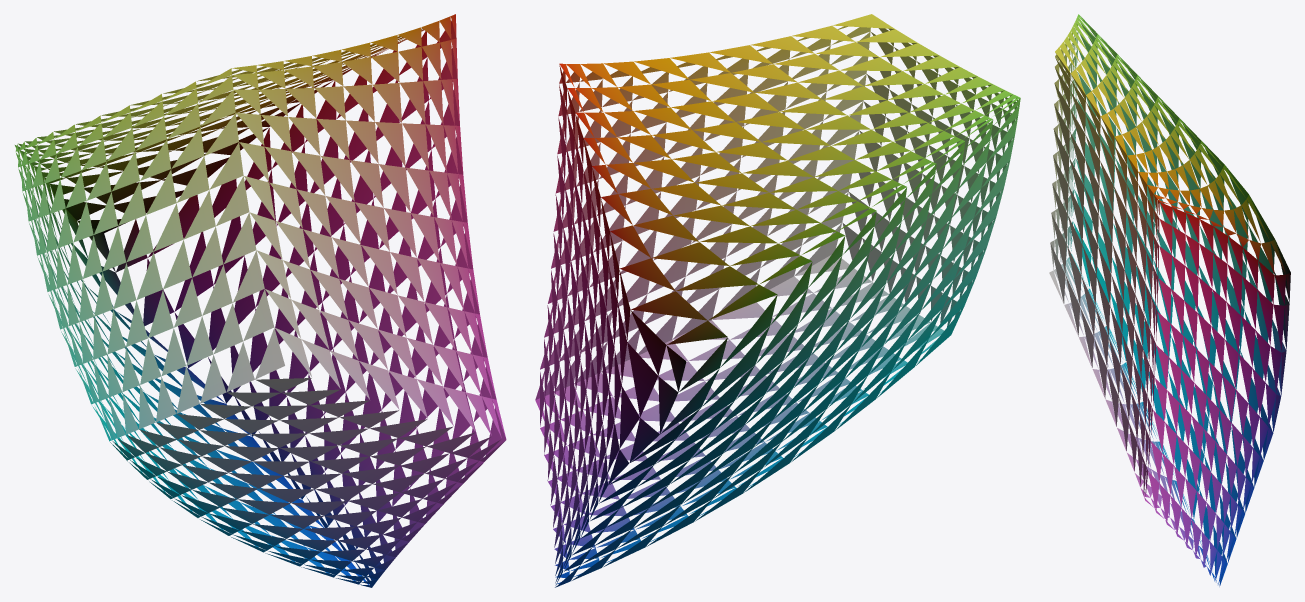
File: sRGB_in_abL output.glb
The picture shows the model from 3 angles, left to right: view 1: azimuth 30°, elevation 25°; view 2: azimuth 150°, elevation 25°; view 3: azimuth 270°, elevation 25°; orthographic projection. The views are drawn at different scales.
Visible parts, largest first — view 1: world; view 2: world; view 3: world.
Part boxes in pixels (x1,y1,x2,y2): world: [15, 14, 506, 587]; world: [535, 14, 1020, 587]; world: [1049, 14, 1290, 586].
Bounding box in the file's own units: 173 × 205 × 100.
